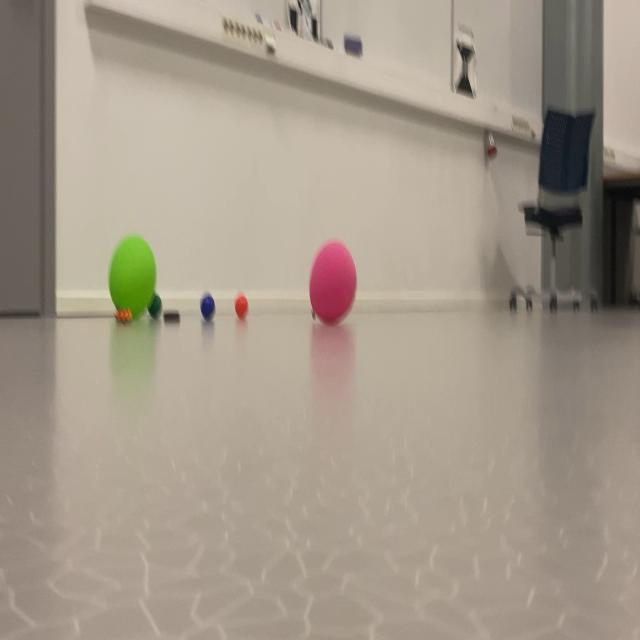7: (229, 280, 251, 335)
green ball: (191, 283, 218, 332)
red ball: (147, 287, 163, 330)
